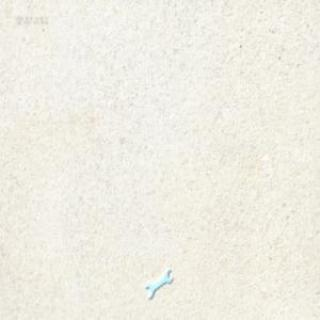Wrenchtrack_idkeyframe: (145, 268, 171, 299)
